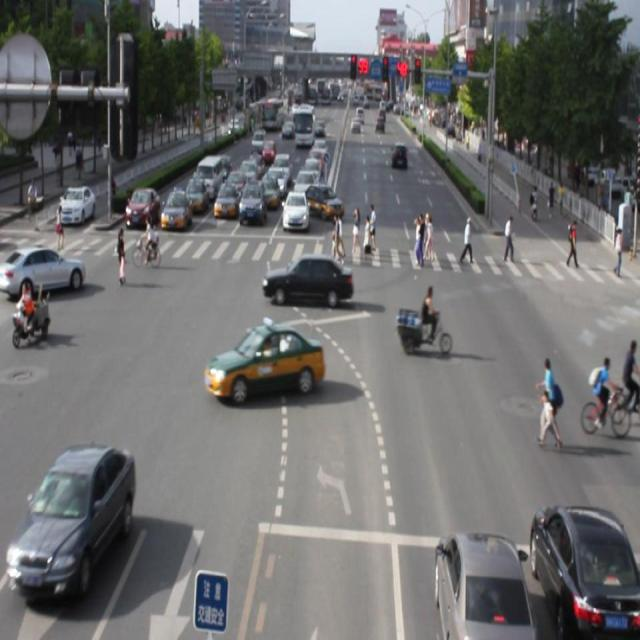car: (14, 444, 136, 598), (523, 495, 640, 640), (429, 524, 530, 640), (204, 321, 325, 402), (264, 252, 354, 304)
